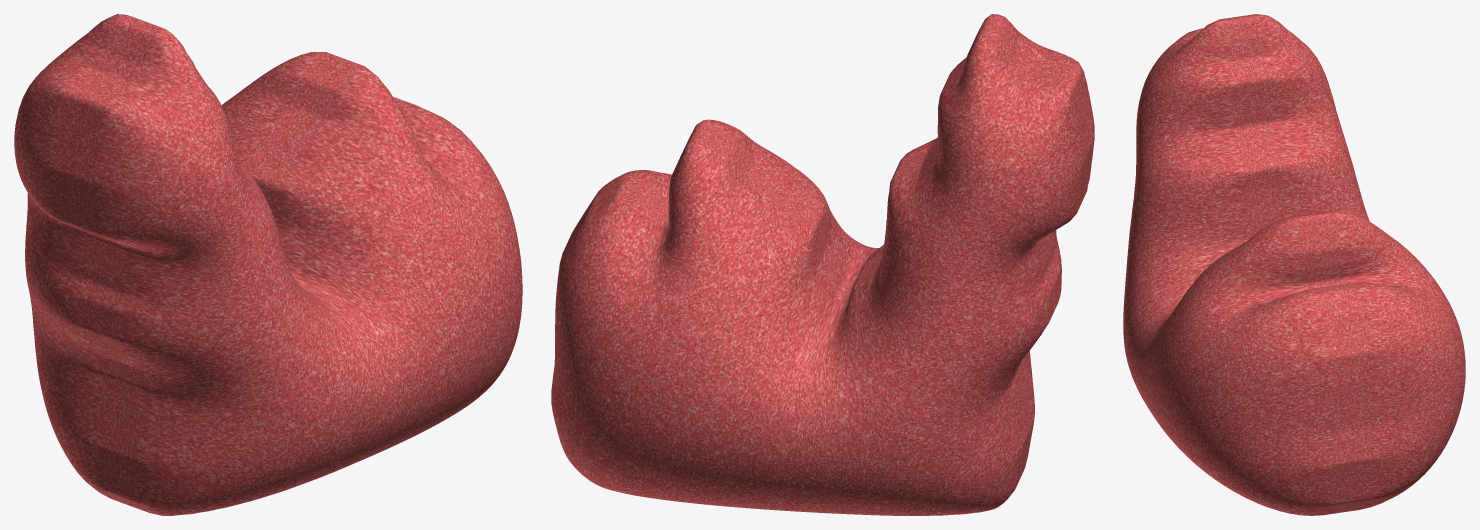
The model's file is stone_017-ver02.glb.
3 views of the same model, side by side, from view 1: azimuth 30°, elevation 25°; view 2: azimuth 150°, elevation 25°; view 3: azimuth 270°, elevation 25° (orthographic). The views are drawn at different scales.
Visible parts, largest first — view 1: groupNumber_0; view 2: groupNumber_0; view 3: groupNumber_0.
Part boxes in pixels (x1,y1,x2,y2): groupNumber_0: (14, 14, 522, 515); groupNumber_0: (551, 14, 1094, 515); groupNumber_0: (1123, 14, 1465, 515).
Size of the model in its own units: 0.3012 by 0.2872 by 0.2394.
1 material, 1 textured.
